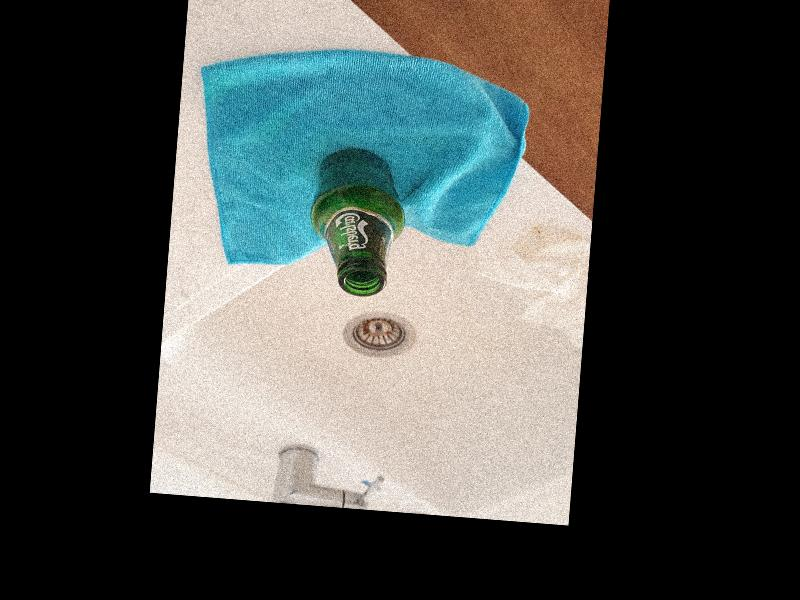Beer: (308, 144, 410, 297)
